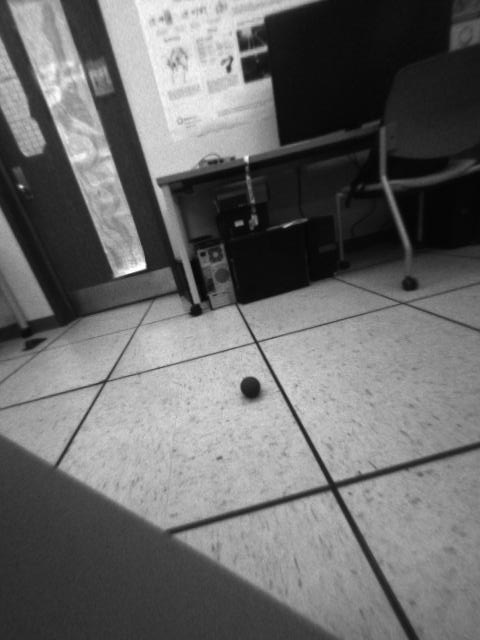dogtoy: (232, 367, 267, 403)
